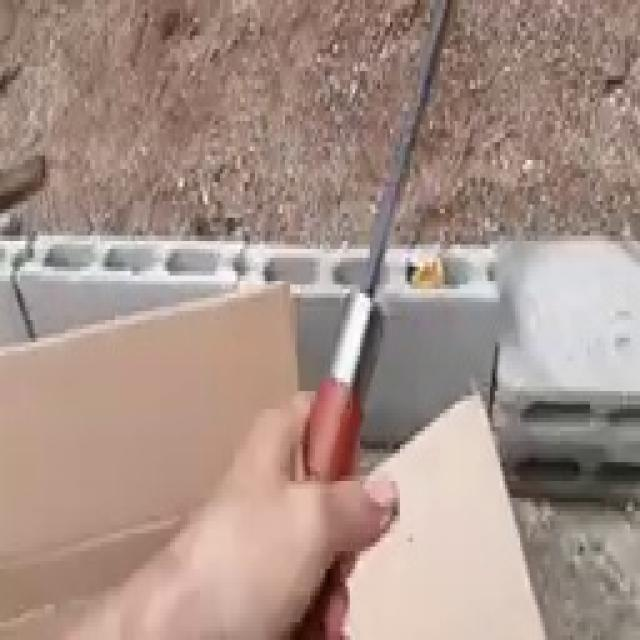eto: (248, 0, 455, 640)
